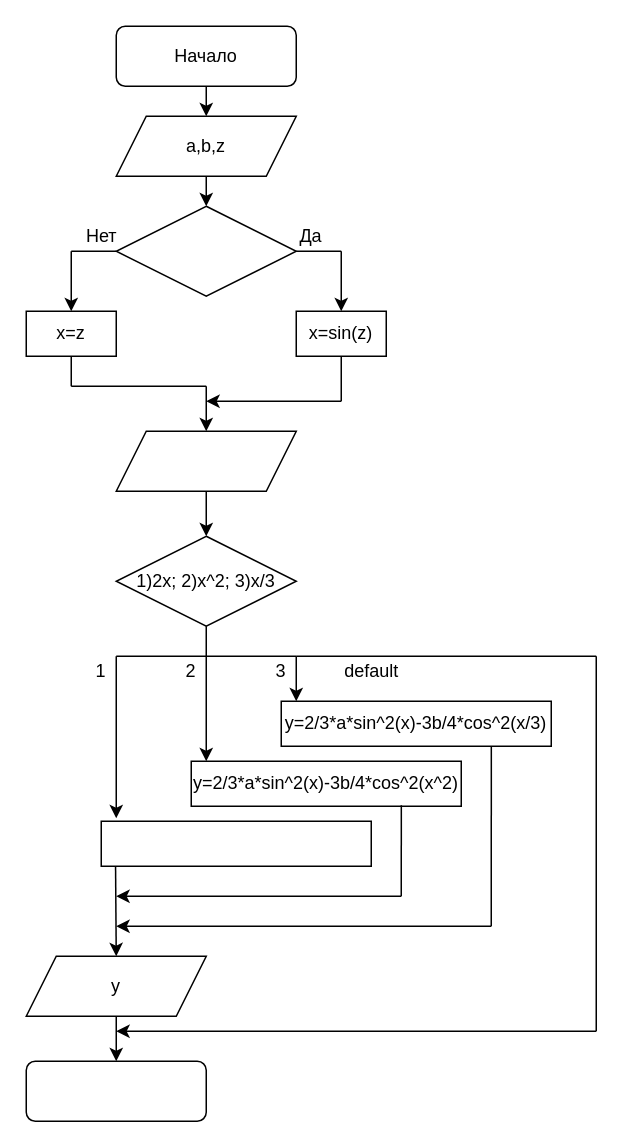
Image size: 635x1148. Some labels were removed from this diagram. The box of each missing label's shape, as (x1, y1, x2, y2) in pixels:
f(x): (115, 430, 296, 491)
y=2/3*a*sin^2(x)-3b/4*cos^2(2x): (100, 820, 371, 866)
z>=0: (115, 205, 296, 296)
Конец: (25, 1060, 206, 1121)
